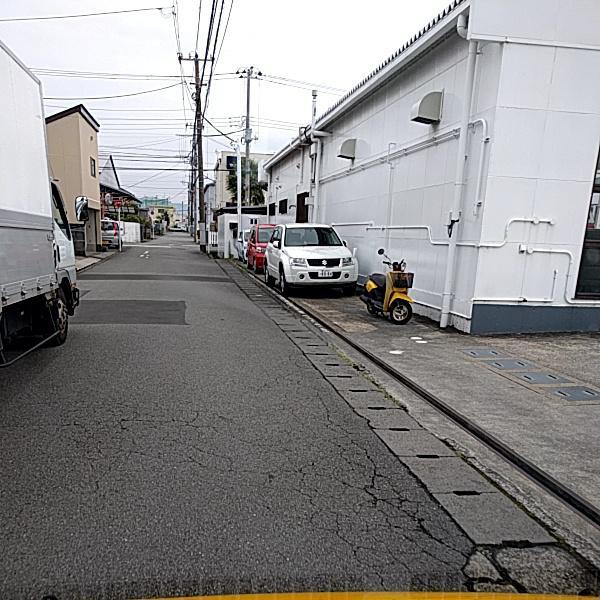D20: (0, 363, 499, 599)
